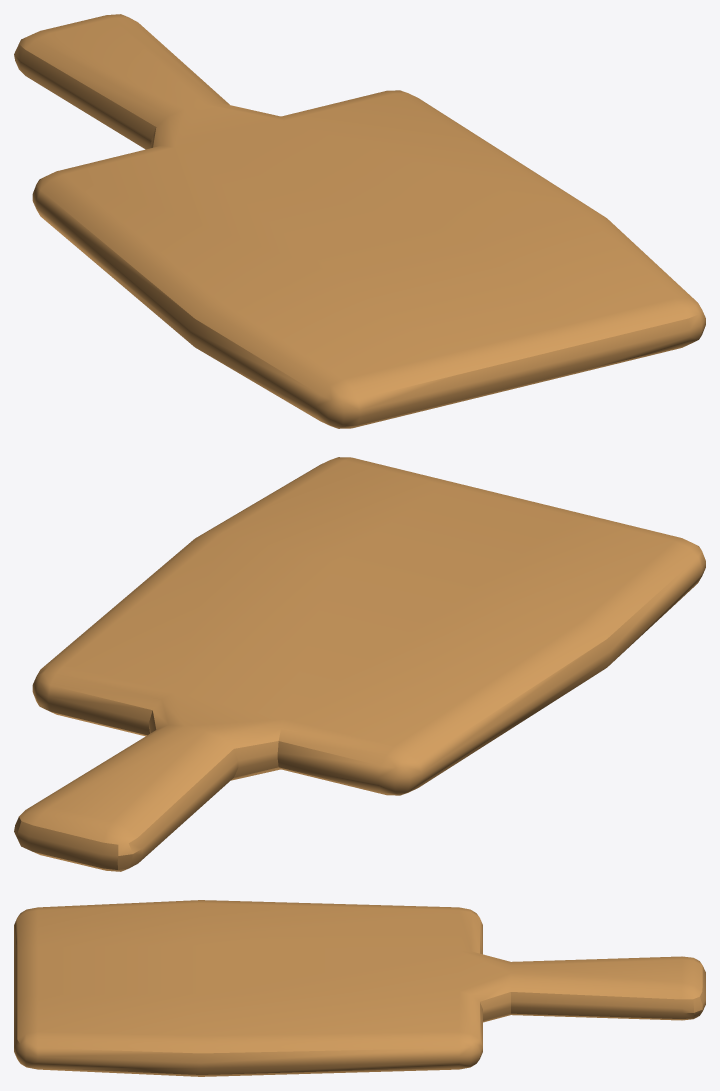
File: CuttingBoard.fbx
3 views of the same model, one above another, from view 1: azimuth 30°, elevation 25°; view 2: azimuth 150°, elevation 25°; view 3: azimuth 270°, elevation 25° (orthographic). The views are drawn at different scales.
Parts seen in each view (by area): view 1: cutting board; view 2: cutting board; view 3: cutting board.
Part boxes in pixels (x1=…): cutting board: x1=14, y1=14, x2=705, y2=428; cutting board: x1=14, y1=457, x2=705, y2=871; cutting board: x1=14, y1=900, x2=705, y2=1076.
Size of the model in its own units: 107 by 12.3 by 203.
